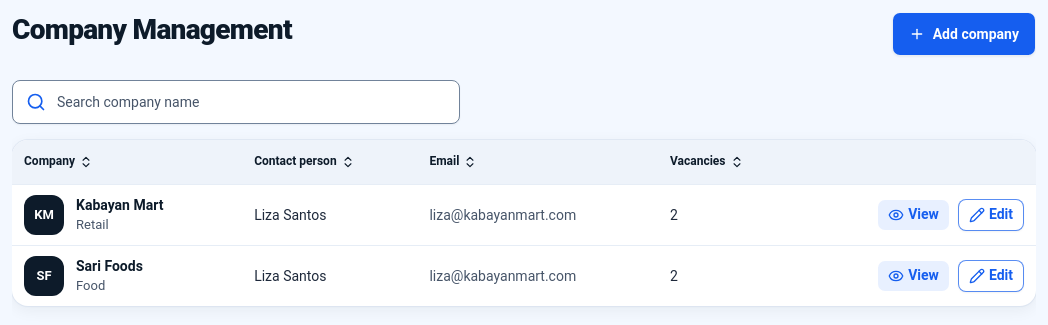
Test: Company Management › searches by name (TC-22)
Expected: the text "Sari Foods" is shown, [76,256,143,276]
In the search field labelled "Search company name": (236,102) [12,80,460,124], type "kaba"
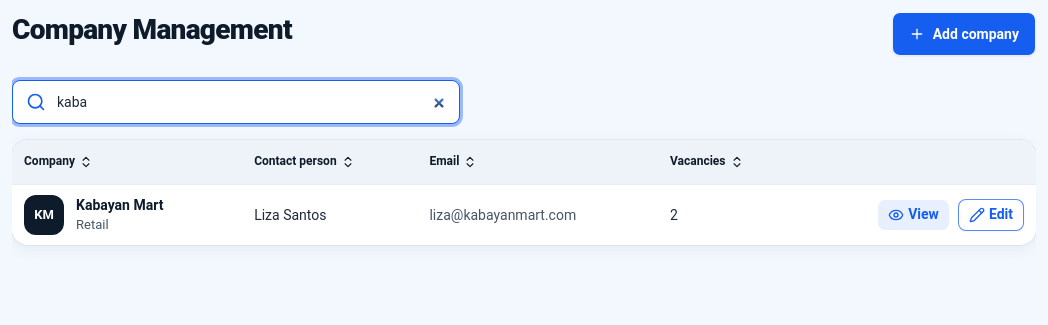
Expected: the text "Kabayan Mart" is shown, [76,195,163,215]
Expected: the text "Sari Foods" is gone
